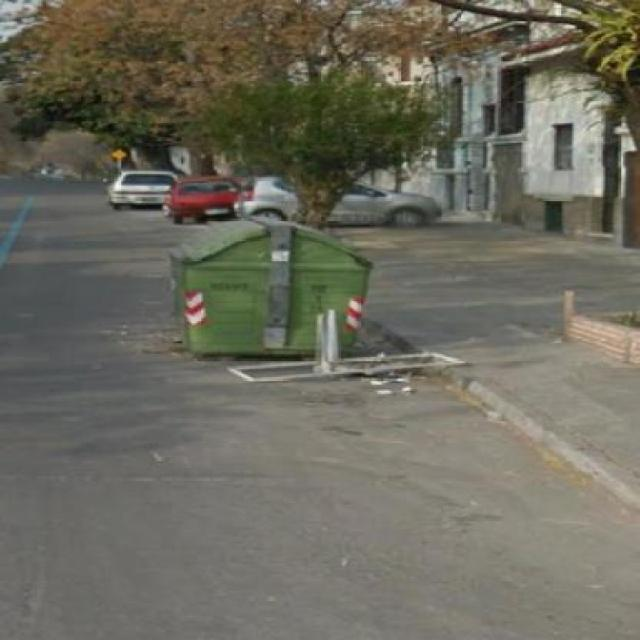garbage: (234, 337, 456, 392), (103, 319, 220, 378)
